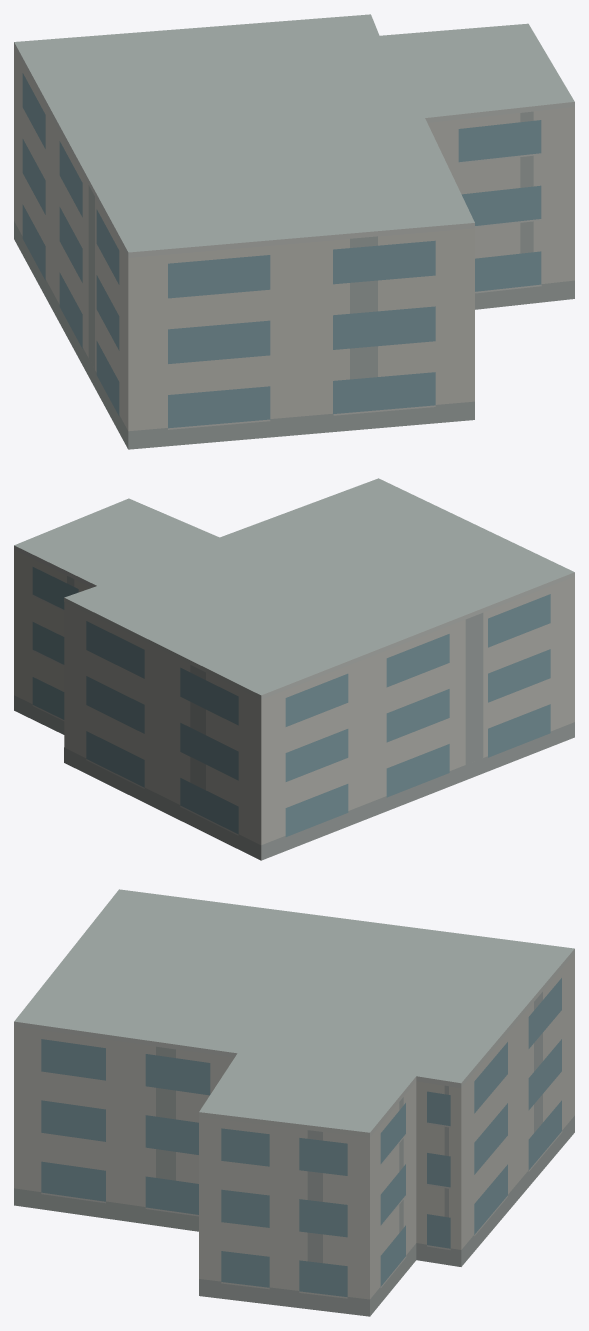
Rendered from survey-upis-32647172.glb.
The picture shows the model from 3 angles, top to bottom: view 1: azimuth 30°, elevation 25°; view 2: azimuth 150°, elevation 25°; view 3: azimuth 270°, elevation 25°; orthographic projection. The views are drawn at different scales.
Parts seen in each view (by area): view 1: survey-upis-32647172.tmp; view 2: survey-upis-32647172.tmp; view 3: survey-upis-32647172.tmp.
Boxes of the visible parts, box(x1,y1,x2,y2) form: survey-upis-32647172.tmp: box(14, 14, 574, 449); survey-upis-32647172.tmp: box(14, 478, 574, 860); survey-upis-32647172.tmp: box(14, 889, 574, 1316).
Size of the model in its own units: 25.99 by 9.15 by 25.3.
